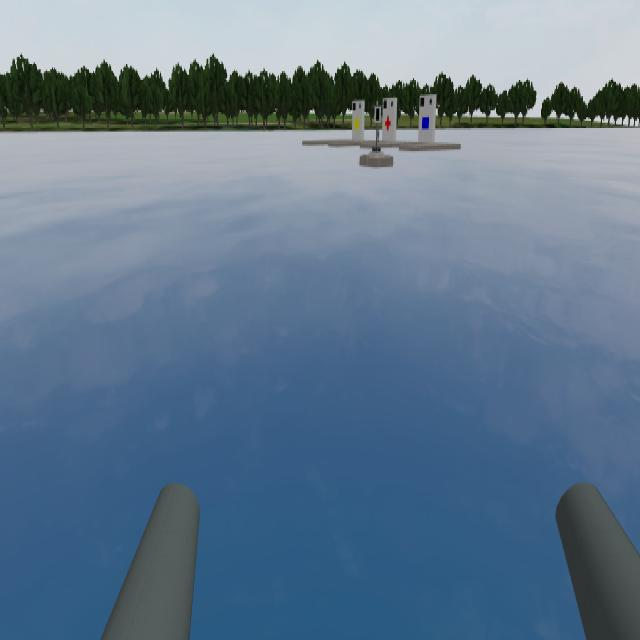black_pole: (369, 101, 386, 132)
